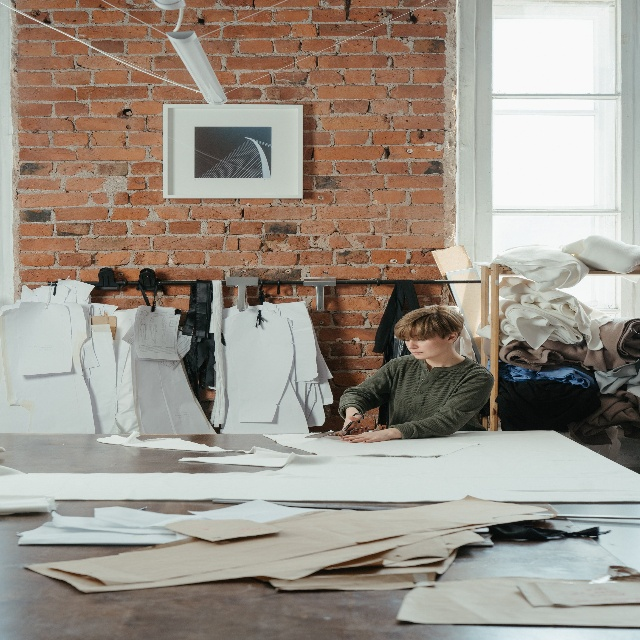Sin_guantes: (339, 428, 391, 443), (342, 409, 361, 430)
